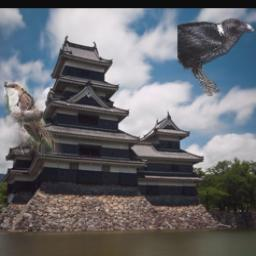Crow: (177, 18, 255, 97)
Cuckoo: (3, 83, 62, 156)
